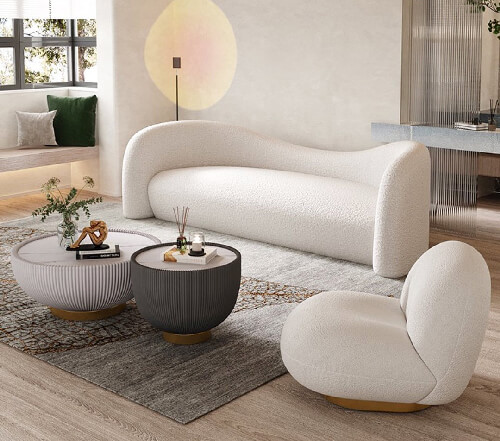chair: (279, 239, 493, 418)
small plant: (30, 174, 101, 247)
sofa: (116, 117, 431, 282)
table: (9, 229, 160, 326), (127, 238, 243, 346)
